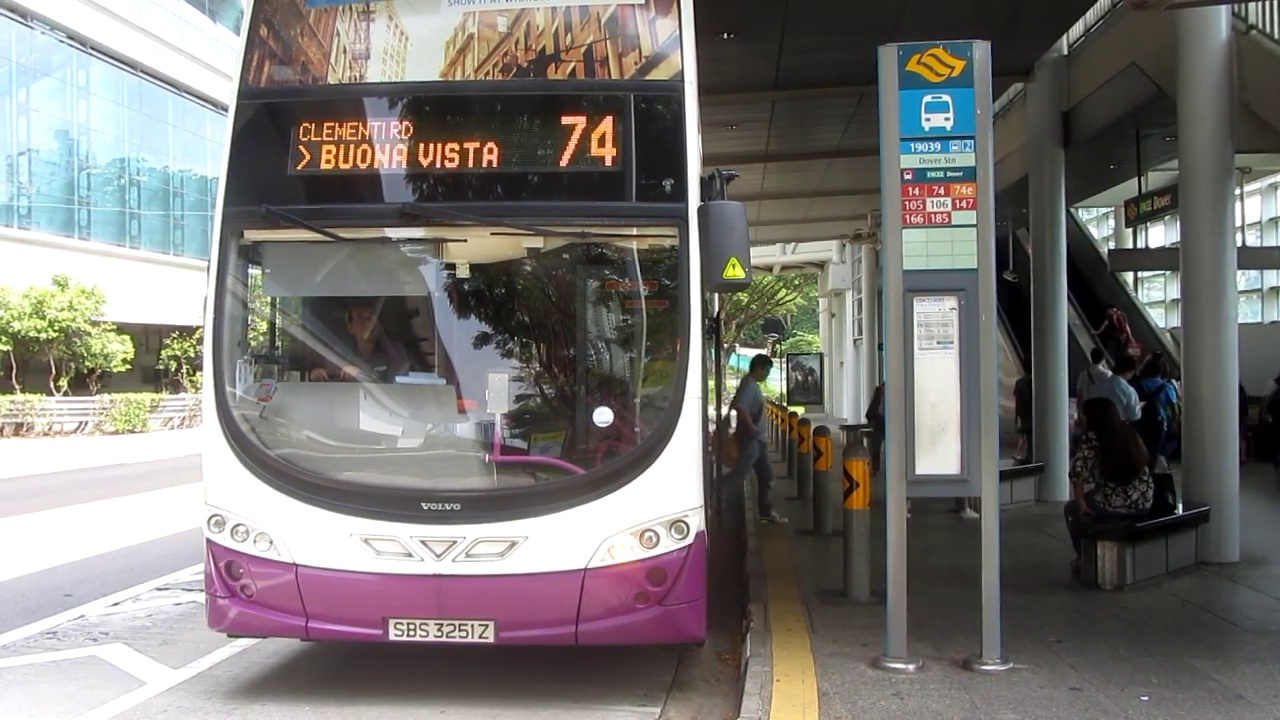bus panel: (285, 109, 626, 178)
